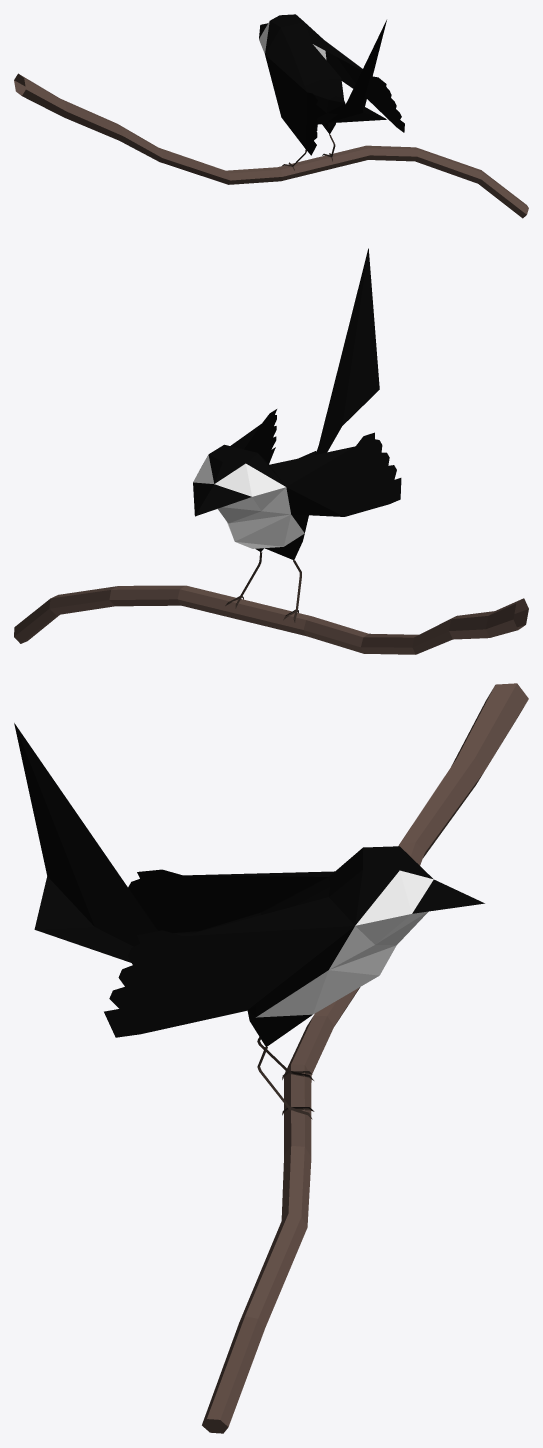
Rendered from bird.glb.
3 renders of one model, top to bottom at view 1: azimuth 30°, elevation 25°; view 2: azimuth 150°, elevation 25°; view 3: azimuth 270°, elevation 25°, orthographic. The views are drawn at different scales.
Visible parts, largest first — view 1: Plane.001, Circle, Plane.002; view 2: Plane.001, Circle, Plane.002; view 3: Plane.001, Circle, Plane.002.
Part boxes in pixels (box(x1,y1,x2,y2)): Plane.001: box(259, 14, 404, 170); Circle: box(14, 73, 528, 218); Plane.002: box(326, 20, 386, 123); Plane.001: box(193, 409, 401, 622); Circle: box(14, 585, 528, 654); Plane.002: box(316, 248, 379, 454); Plane.001: box(104, 846, 484, 1119); Circle: box(202, 683, 528, 1433); Plane.002: box(14, 723, 157, 962).
Size of the model in its own units: 20.17 by 12.66 by 11.
